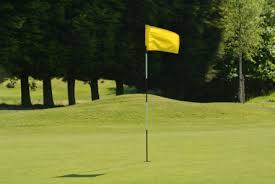Flag: (144, 23, 180, 55)
